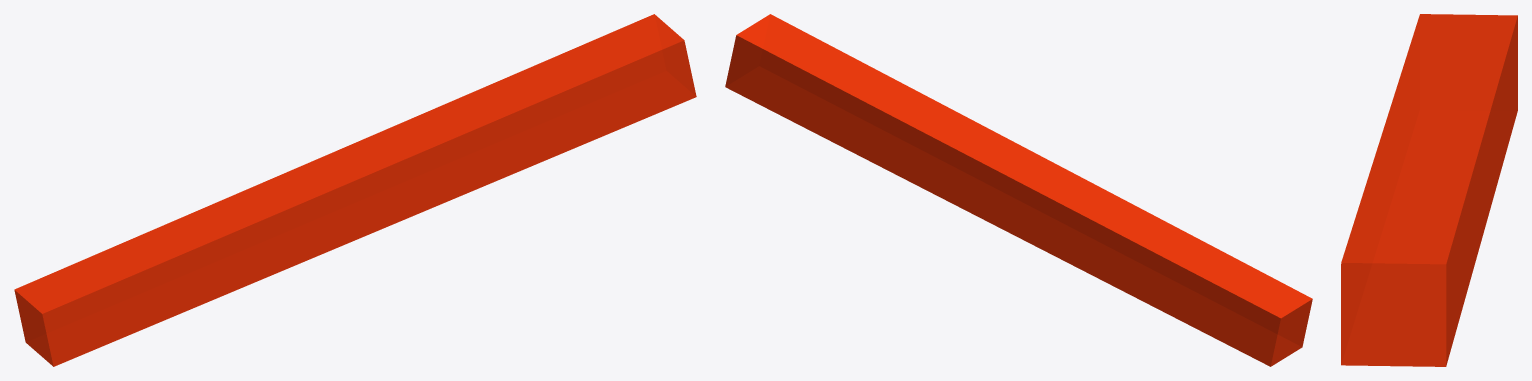
File: Event_421115418_EErechit_64.fbx
3 renders of one model, left to right at view 1: azimuth 30°, elevation 25°; view 2: azimuth 150°, elevation 25°; view 3: azimuth 270°, elevation 25°, orthographic. The views are drawn at different scales.
Visible parts, largest first — view 1: Model; view 2: Model; view 3: Model.
Boxes of the visible parts, x1,y1,x2,y2 form: Model: (14,14,696,366); Model: (725,14,1312,366); Model: (1341,14,1517,366).
Bounding box in the file's own units: 0.8438 × 0.2525 × 0.1308.
